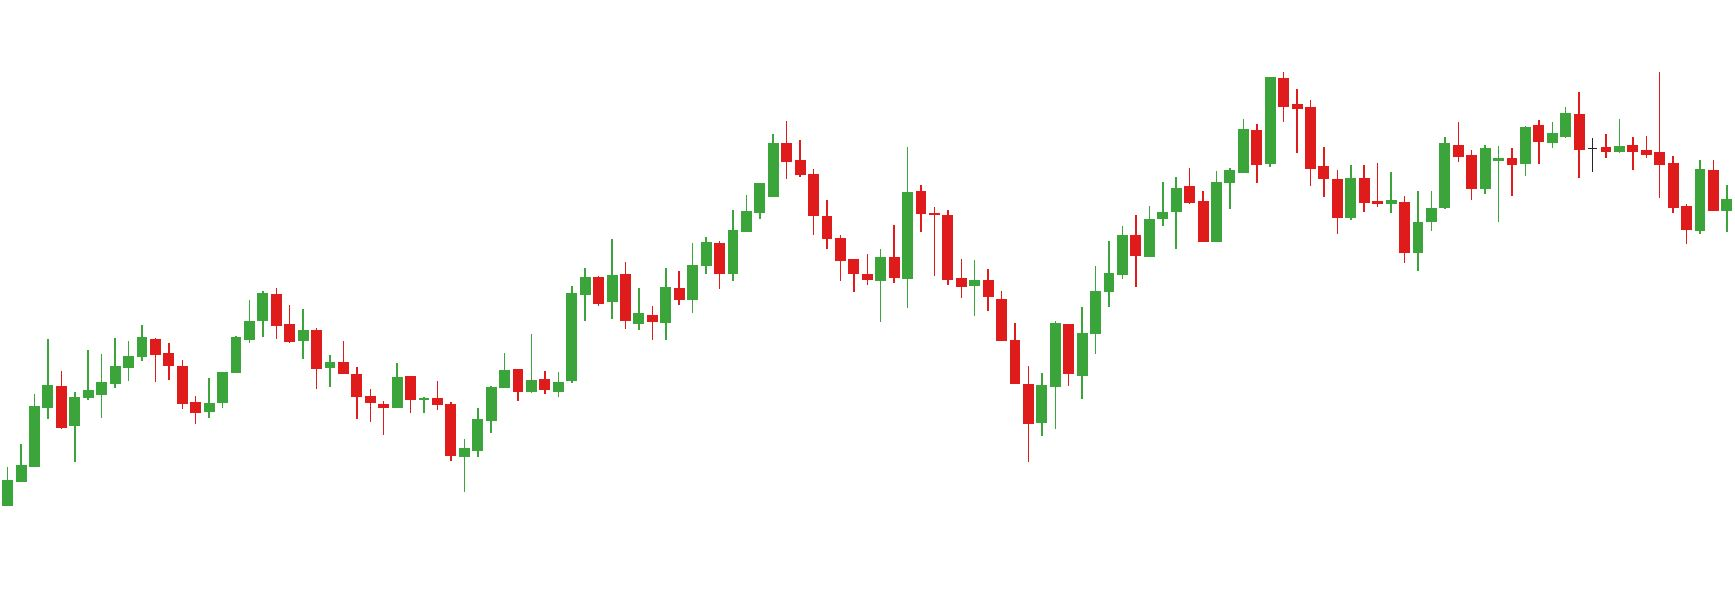sell: (134, 289, 297, 365)
